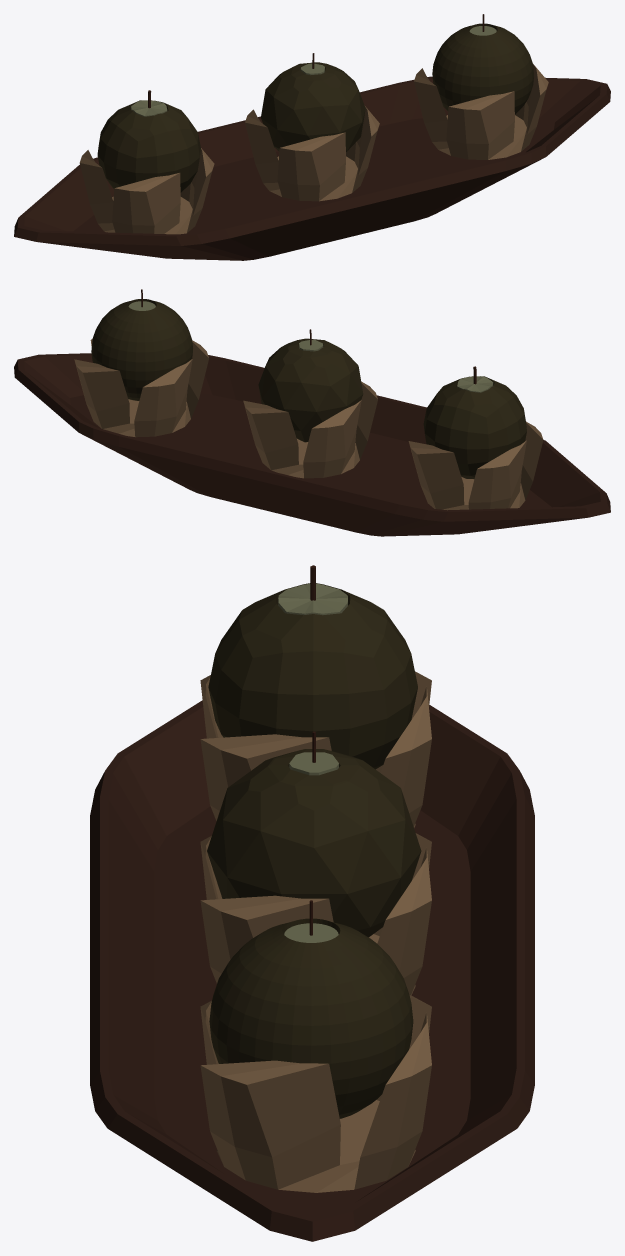
The model's file is Centerpiece.fbx.
The picture shows the model from 3 angles, top to bottom: view 1: azimuth 30°, elevation 25°; view 2: azimuth 150°, elevation 25°; view 3: azimuth 270°, elevation 25°; orthographic projection. The views are drawn at different scales.
Parts seen in each view (by area): view 1: decorBase, sphereFromSquares, SphereBase.001, SphereBase.002, sphereFromTriangles, SphereBase, sphere; view 2: decorBase, sphereFromSquares, sphereFromTriangles, SphereBase.002, SphereBase.001, sphere, SphereBase; view 3: decorBase, sphereFromSquares, sphereFromTriangles, sphere, SphereBase.002, SphereBase.001, SphereBase.
Boxes of the visible parts, bbox=[...] form: decorBase: bbox=[14, 76, 610, 260]; sphereFromSquares: bbox=[97, 90, 200, 192]; SphereBase.001: bbox=[245, 106, 379, 201]; SphereBase.002: bbox=[414, 64, 548, 159]; sphereFromTriangles: bbox=[261, 53, 365, 151]; SphereBase: bbox=[79, 148, 214, 234]; sphere: bbox=[432, 14, 533, 114]; decorBase: bbox=[14, 353, 610, 536]; sphereFromSquares: bbox=[423, 366, 526, 478]; sphereFromTriangles: bbox=[258, 329, 363, 442]; SphereBase.002: bbox=[74, 339, 208, 437]; SphereBase.001: bbox=[243, 381, 377, 478]; sphere: bbox=[91, 289, 192, 400]; SphereBase: bbox=[408, 421, 543, 510]; decorBase: bbox=[90, 700, 534, 1241]; sphereFromSquares: bbox=[208, 565, 417, 769]; sphereFromTriangles: bbox=[207, 731, 421, 937]; sphere: bbox=[209, 900, 413, 1118]; SphereBase.002: bbox=[200, 995, 431, 1192]; SphereBase.001: bbox=[200, 833, 431, 995]; SphereBase: bbox=[200, 671, 431, 827].
Bounding box in the file's own units: 39.96 × 10.64 × 12.89.
